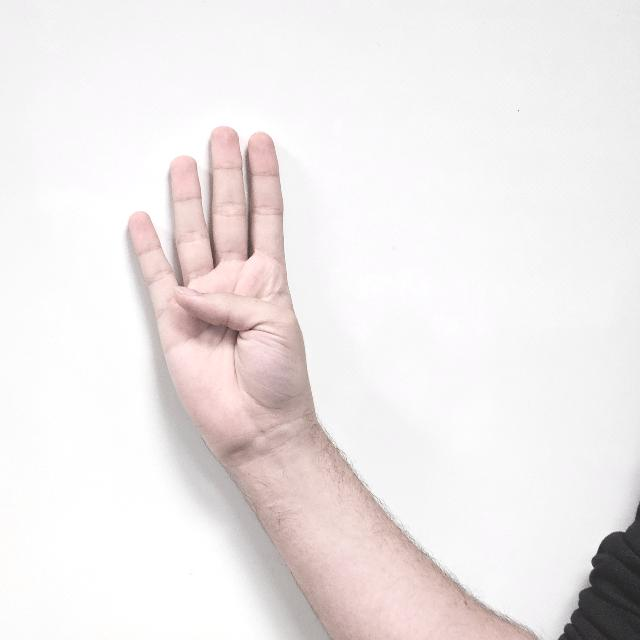Baixo: (122, 123, 328, 449)
